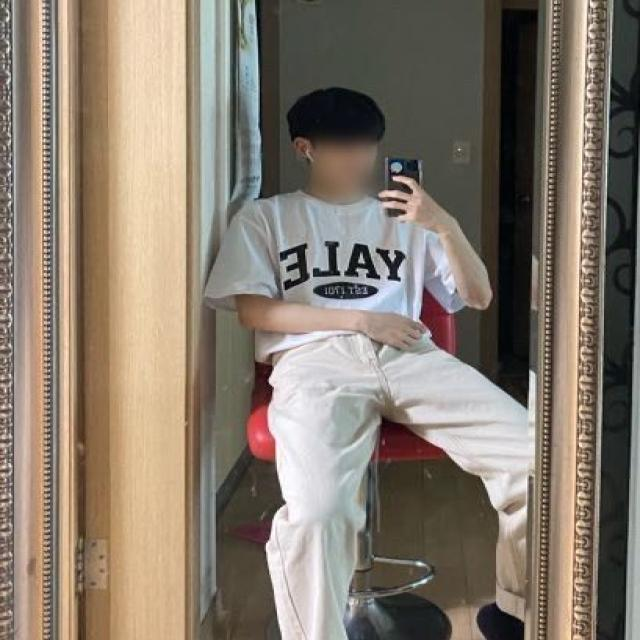denimpants: (264, 326, 533, 638)
shortsleeve: (211, 188, 474, 344)
